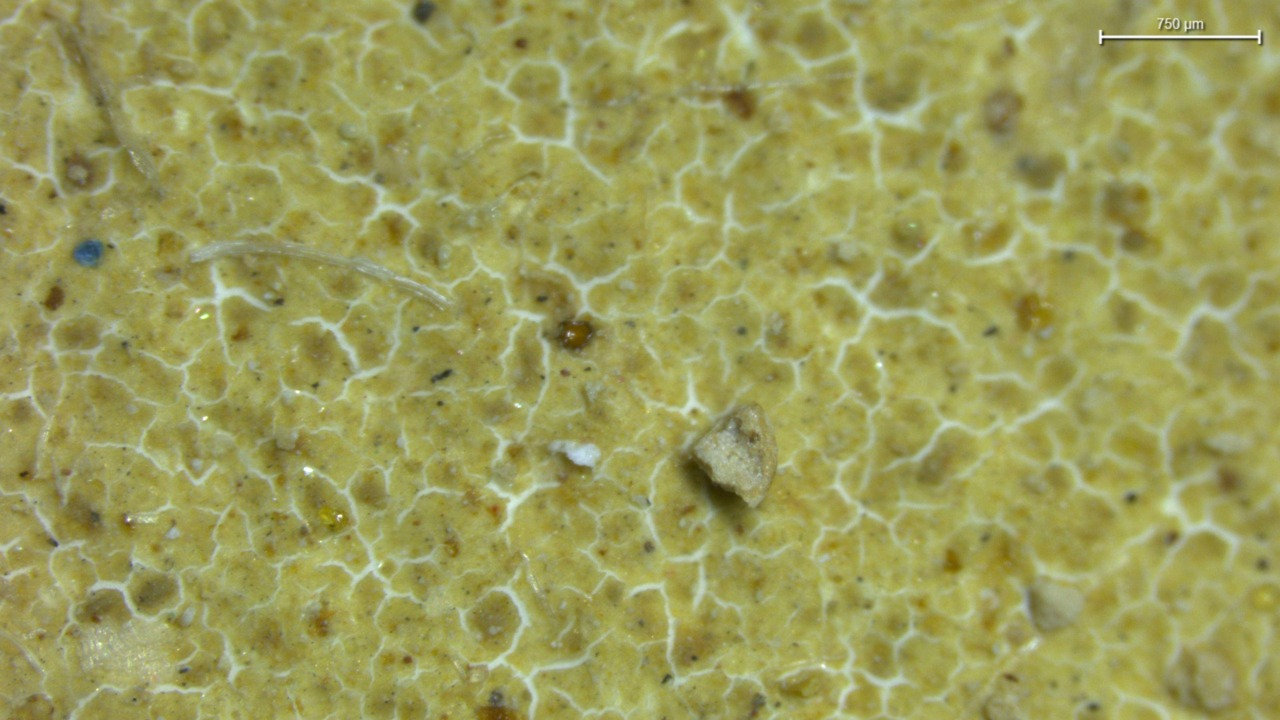microplastic_fragment: (690, 403, 777, 506), (548, 440, 601, 467)
